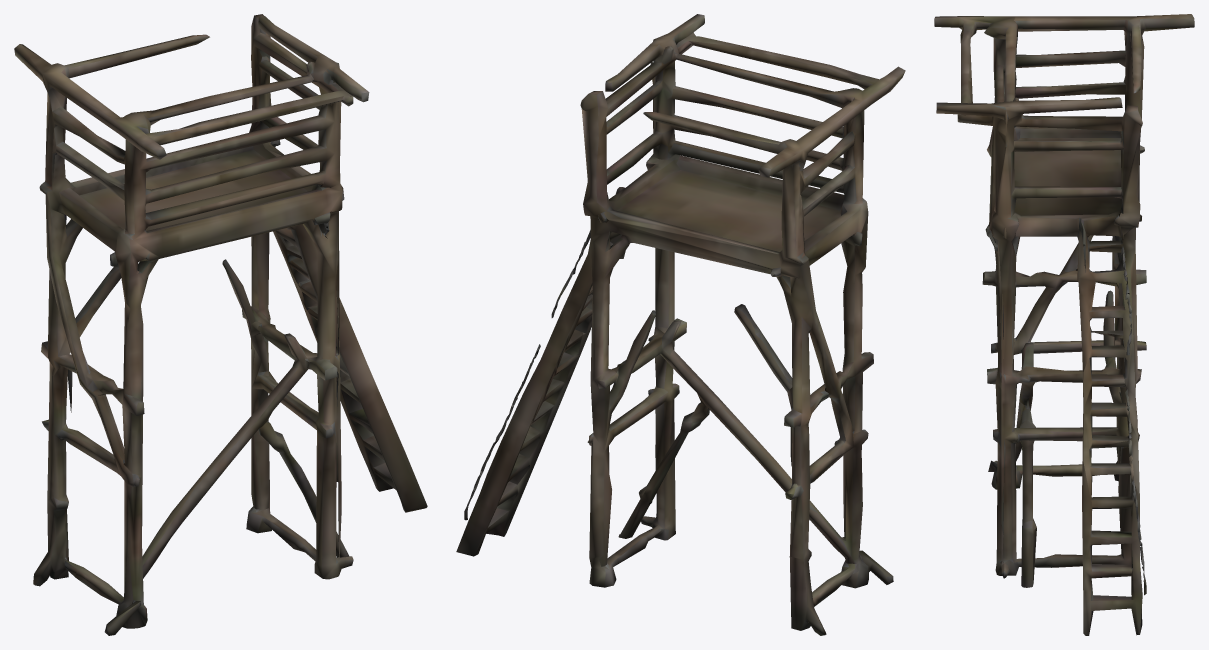
The model's file is rustic-wood-scaffold-tower-v001.glb.
3 views of the same model, side by side, from view 1: azimuth 30°, elevation 25°; view 2: azimuth 150°, elevation 25°; view 3: azimuth 270°, elevation 25° (orthographic). The views are drawn at different scales.
Parts seen in each view (by area): view 1: rustic-wood-scaffold-tower; view 2: rustic-wood-scaffold-tower; view 3: rustic-wood-scaffold-tower.
Boxes of the visible parts, x1=… form: rustic-wood-scaffold-tower: x1=14, y1=14, x2=427, y2=635; rustic-wood-scaffold-tower: x1=456, y1=14, x2=905, y2=635; rustic-wood-scaffold-tower: x1=934, y1=14, x2=1194, y2=635.
Size of the model in its own units: 2.49 by 3.29 by 1.64.
Materials: 1 (1 with a texture image).
